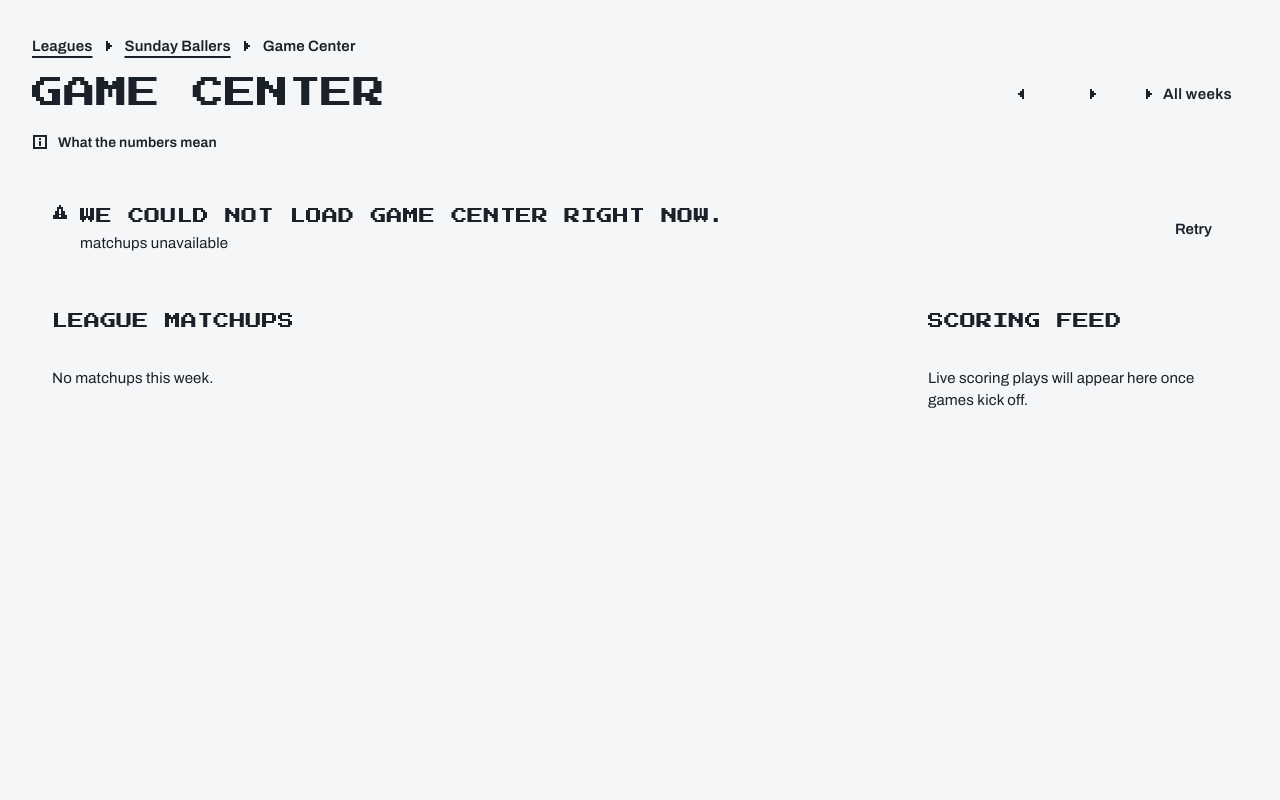
Test: Play-select › a failed read is the danger panel: the title, the server sentence and a ghost Retry that asks again
Expected: the message shows "We could not load Game Center right now.", [80, 208, 726, 224]
Expected: the message shows "matchups unavailable", [80, 235, 228, 251]
Click the button "Retry" at (1193, 229), box [1159, 207, 1228, 251]
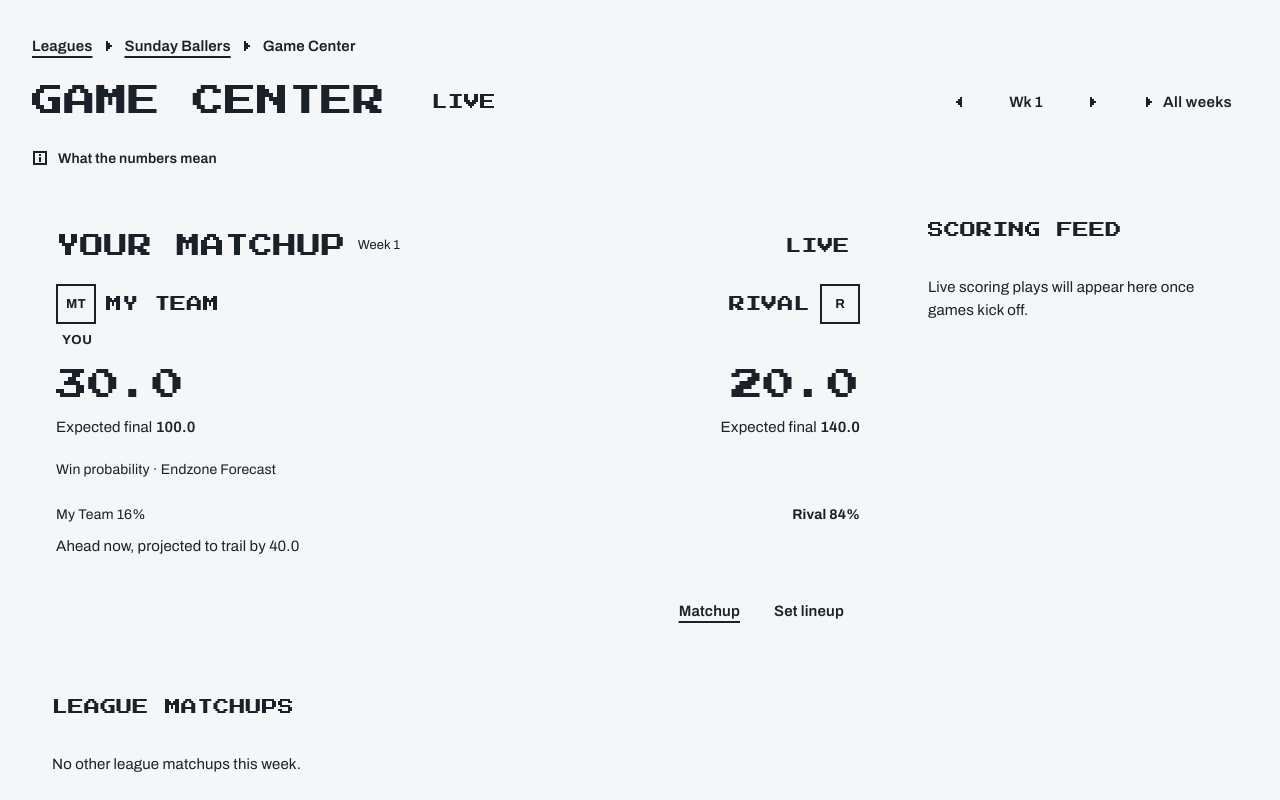
Now the element with test id "matchup-hero" is shown, box [32, 204, 884, 657]
Now the message "We could not load Game Center right now. matchups unavailable Retry" is gone
